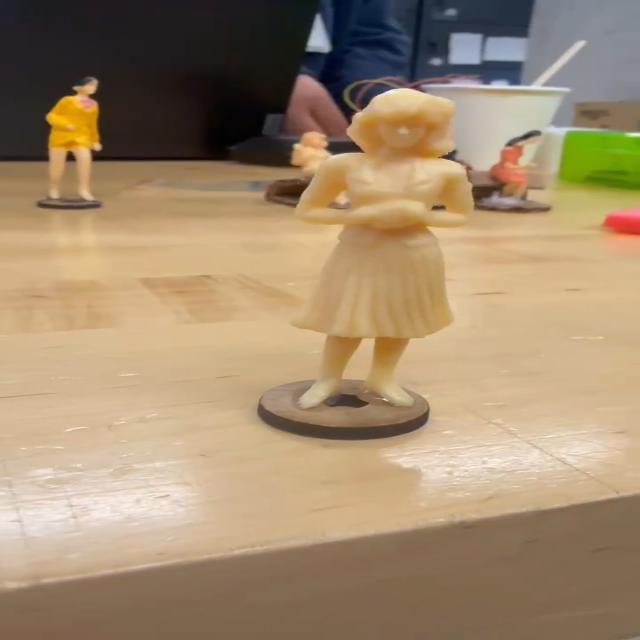Unauthorized: (277, 77, 482, 419)
